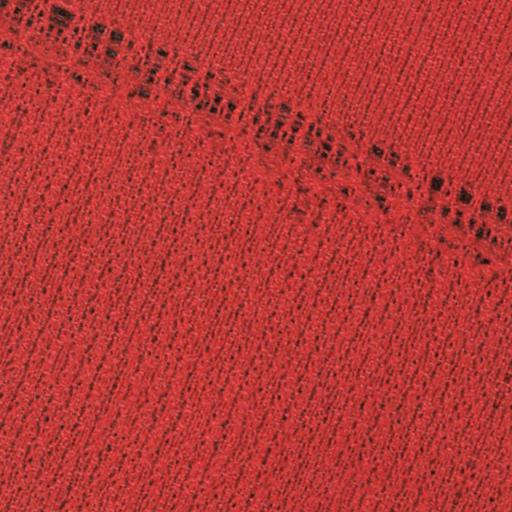slub: (2, 0, 510, 275)
